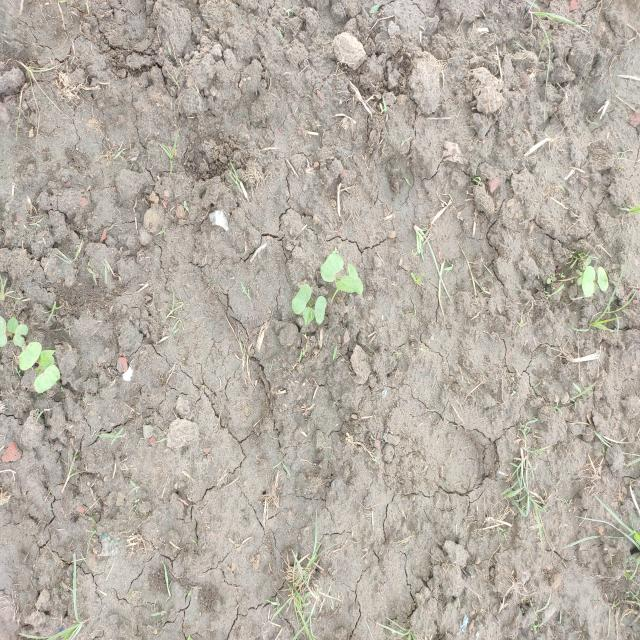seedling_s4: (34, 364, 61, 393), (337, 263, 363, 293), (321, 253, 344, 281), (19, 342, 41, 371), (291, 285, 312, 315), (582, 265, 595, 296), (314, 296, 326, 323), (38, 350, 55, 369), (14, 324, 28, 346), (597, 267, 609, 291), (303, 308, 314, 326)
